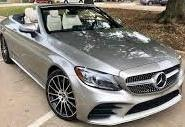Cars: (1, 6, 183, 126)
